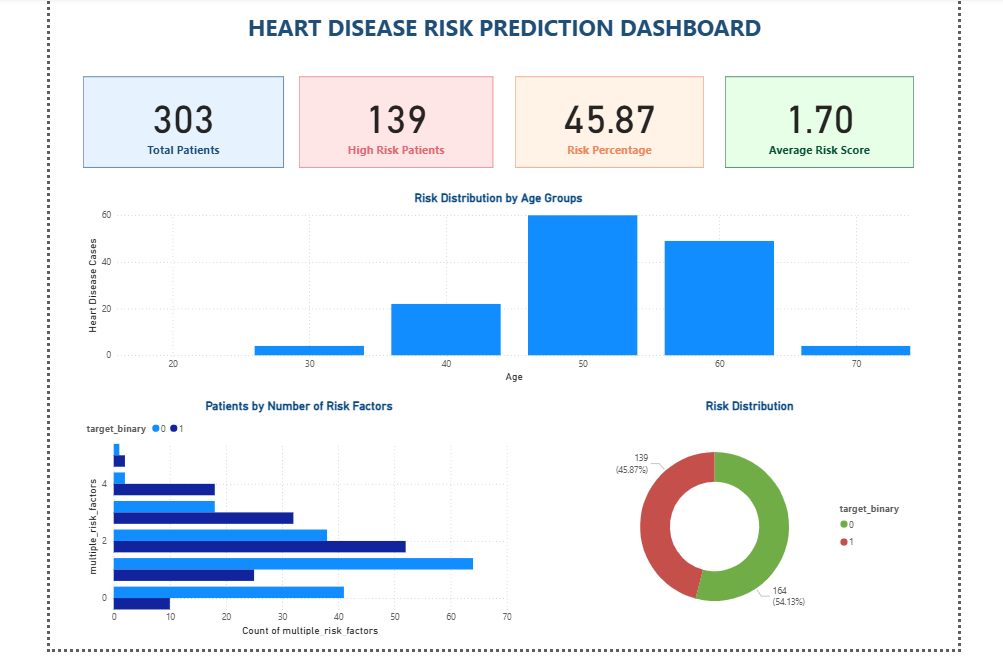

The page's visual inventory and layout, read from the dashboard file:
{"tool":"powerbi","page":{"name":"Executive Summary","canvas":[1280,920],"ordinal":0},"visuals":[{"type":"textbox","box":[15.1,15.1,1252.9,75.6],"z":0},{"type":"card","fields":{"Values":["heart_disease_preprocessed.Total Patients"]},"box":[47.2,111.5,283.5,128.5],"z":1000},{"type":"card","fields":{"Values":["heart_disease_preprocessed.High Risk Patients"]},"box":[351.5,111.5,274,128.5],"z":2000},{"type":"card","fields":{"Values":["heart_disease_preprocessed.Risk Percentage"]},"box":[655.8,111.5,266.5,128.5],"z":3000},{"type":"card","fields":{"Values":["heart_disease_preprocessed.Average Risk Score"]},"box":[952.4,111.5,266.5,128.5],"z":4000},{"type":"clusteredColumnChart","title":"Risk Distribution by Age Groups","fields":{"Category":["heart_disease_initial.age (bins)"],"Y":["Sum(heart_disease_initial.target_binary)"]},"box":[46.6,273,1172.6,275.2],"z":5000},{"type":"donutChart","title":"Risk Distribution","fields":{"Category":["heart_disease_initial.target_binary"],"Y":["CountNonNull(heart_disease_initial.target_binary)"]},"box":[755.6,567.3,463.5,338.7],"z":6000},{"type":"clusteredBarChart","title":"Patients by Number of Risk Factors","fields":{"Y":["CountNonNull(heart_disease_preprocessed.multiple_risk_factors)"],"Category":["heart_disease_preprocessed.multiple_risk_factors"],"Series":["heart_disease_preprocessed.target_binary"]},"box":[46.6,567.3,609.6,338.7],"z":7000}]}

Visuals, with their boxes on the page's 1280x920 design canvas (x1, y1, x2, y2). These are canvas units, not pixel positions in the 1003x658 screenshot, which may show the page scaled, cropped or inside an application window:
textbox: 15,15,1268,91
card - heart_disease_preprocessed.Total Patients: 47,112,331,240
card - heart_disease_preprocessed.High Risk Patients: 352,112,626,240
card - heart_disease_preprocessed.Risk Percentage: 656,112,922,240
card - heart_disease_preprocessed.Average Risk Score: 952,112,1219,240
"Risk Distribution by Age Groups" clusteredColumnChart: 47,273,1219,548
"Risk Distribution" donutChart: 756,567,1219,906
"Patients by Number of Risk Factors" clusteredBarChart: 47,567,656,906
